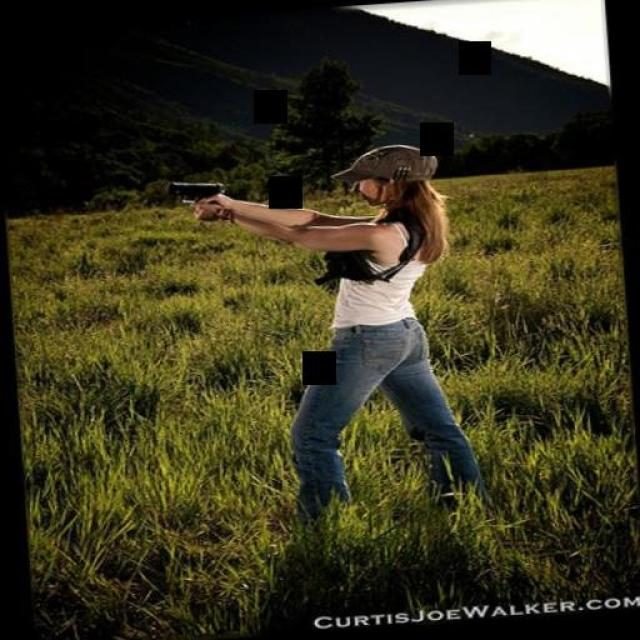gun: (168, 172, 228, 220)
